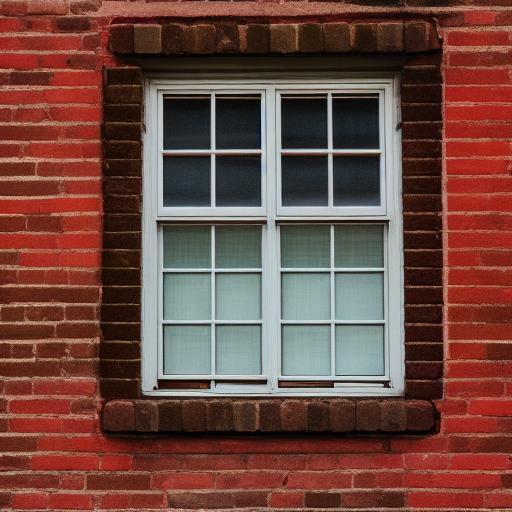Window: (91, 15, 447, 437)
